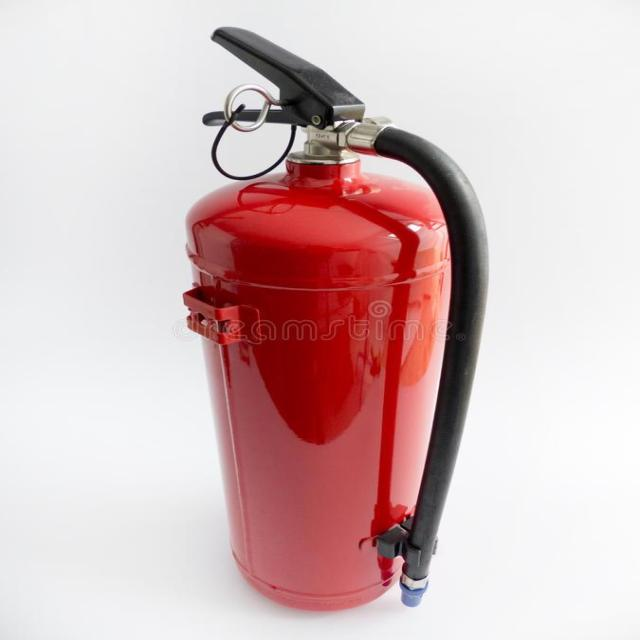fire_extinguisher: (173, 20, 498, 618)
